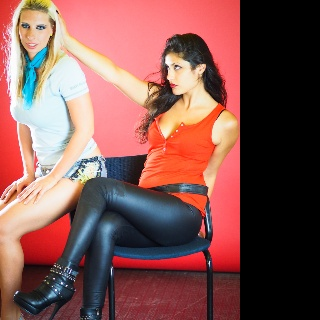without_mask: (165, 50, 206, 96), (16, 10, 54, 53)
